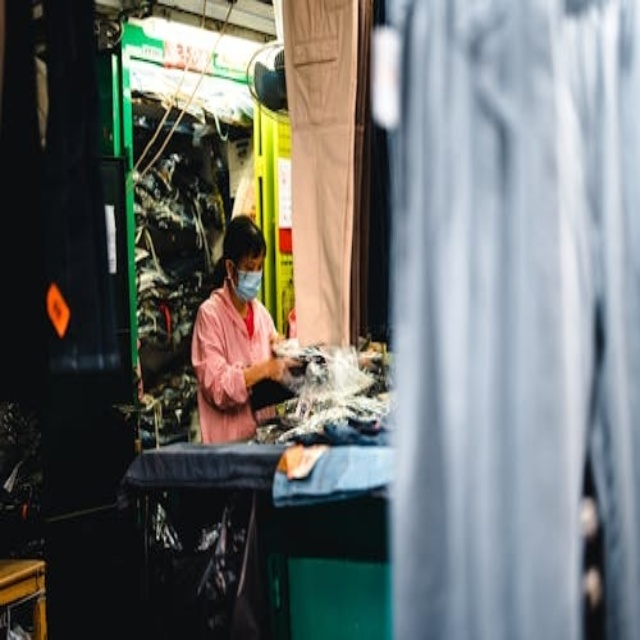Mascara: (231, 263, 263, 301)
Sin_guantes: (274, 357, 304, 390)
